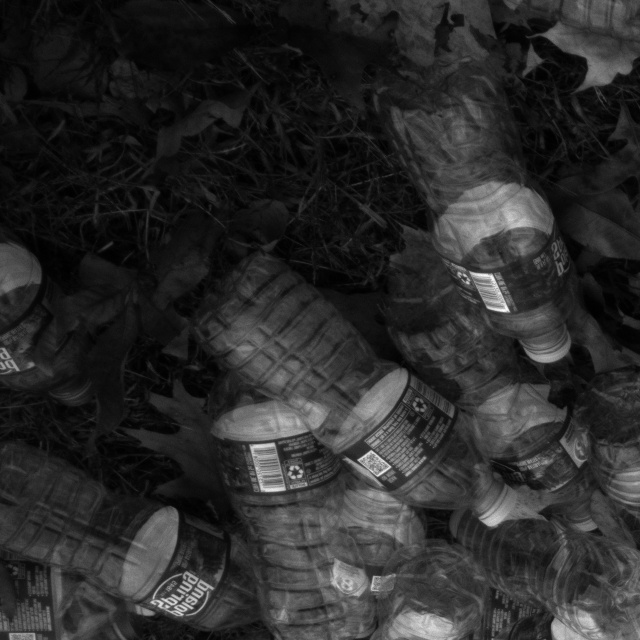bottle: (189, 241, 514, 533), (368, 53, 583, 394), (1, 438, 264, 640), (197, 387, 388, 640), (567, 358, 640, 589), (452, 573, 640, 640), (1, 233, 57, 444), (348, 552, 479, 640)
